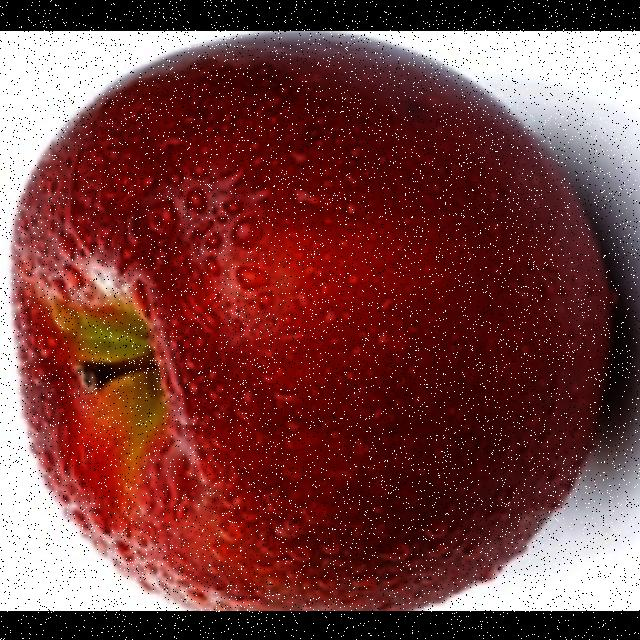Apel Segar: (9, 30, 623, 610)
